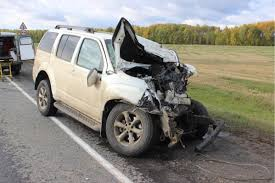car: (36, 24, 217, 159)
